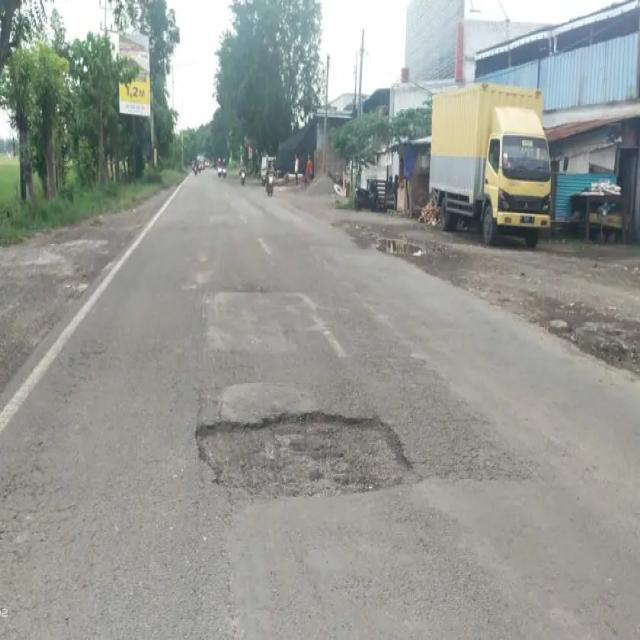pothole: (196, 393, 414, 504)
